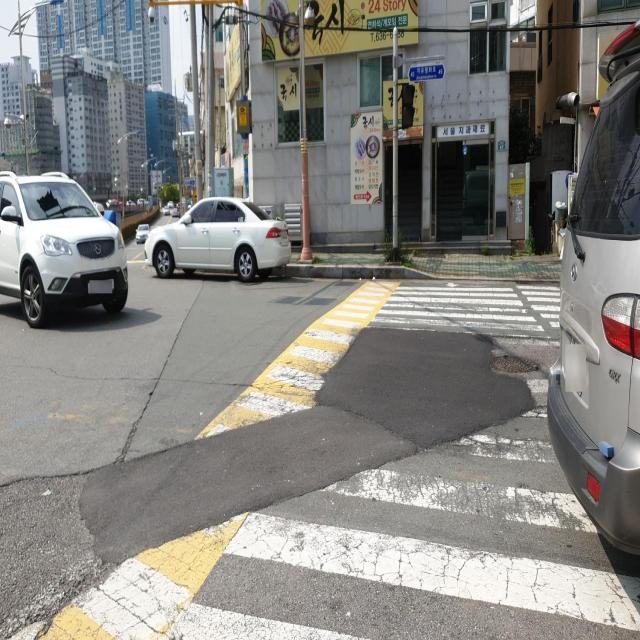횡단보도: (171, 278, 637, 635)
